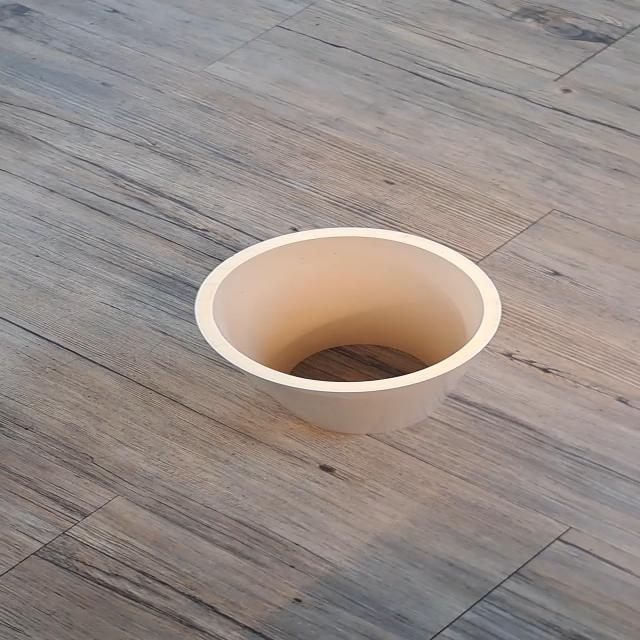CORAL: (164, 210, 554, 449)
